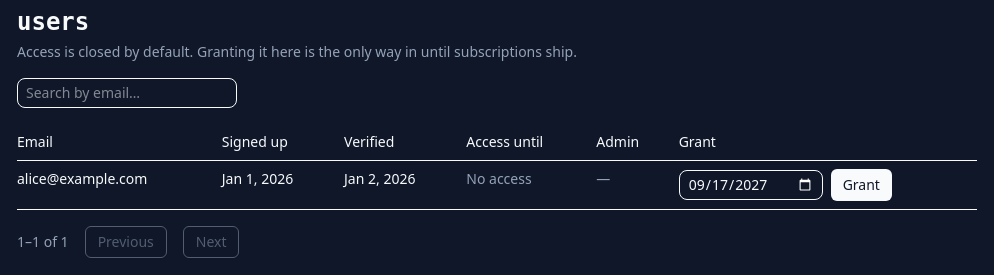
Test: AdminUsers › passes the search box through to the backend as ?q=
This screenshot has width=994, height=275.
Expected: the text "alice@example.com" is shown, x1=17 y1=160 x2=222 y2=210
Type "bob" into the search field named "Search accounts" at {"x": 127, "y": 93}, box x1=17 y1=78 x2=237 y2=108
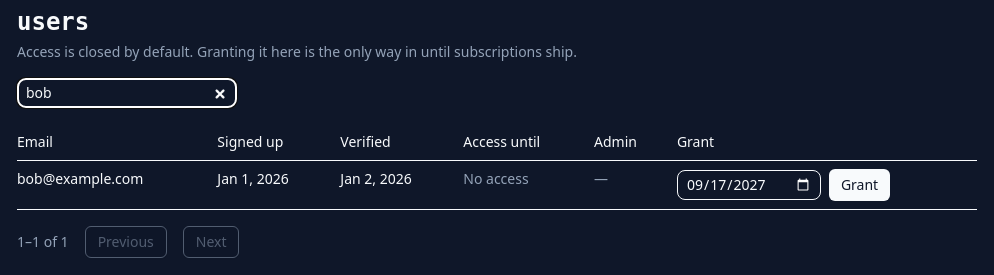
Now the text "bob@example.com" is shown, box x1=17 y1=160 x2=217 y2=210
